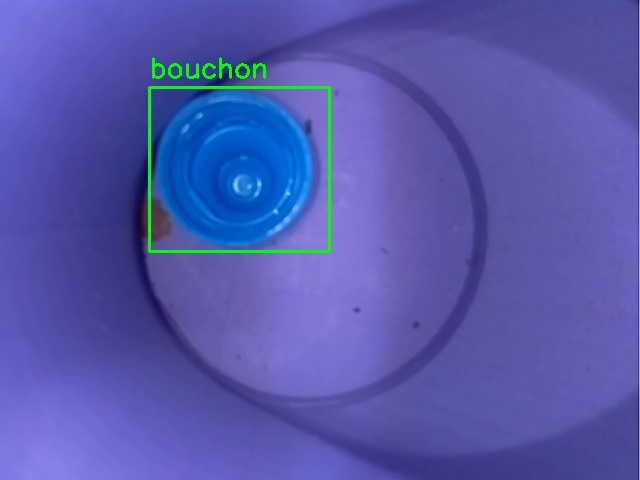bouchon: (149, 87, 329, 251)
